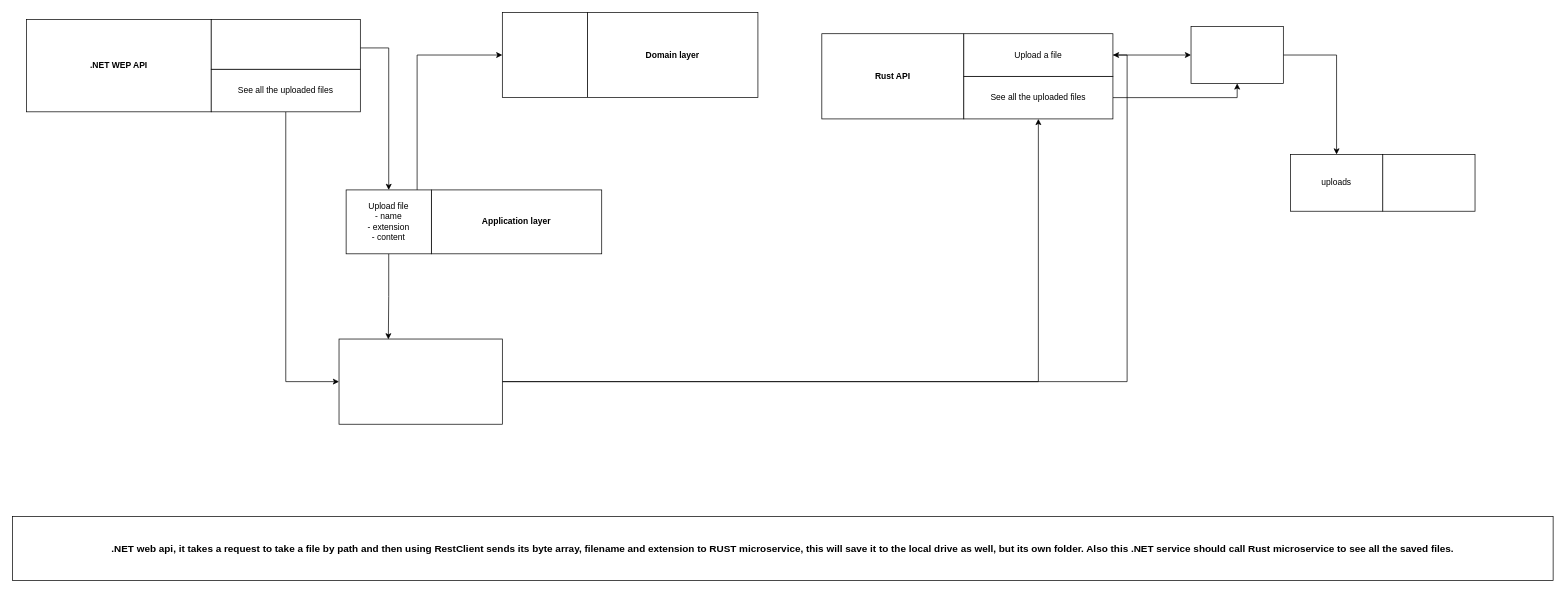
The diagram is 1566 pixels wide and 593 high, and some of its shapes have lost their labels. The centre of each missing label's shape, as x and y in pixels:
".NET REST CLIENT" goes at (x=420, y=381).
"File - name - extension - content" goes at (x=545, y=55).
"I/O" goes at (x=1236, y=54).
"LOCAL DRIVE" goes at (x=1428, y=182).
"Upload a file - filename - extension - content" goes at (x=285, y=44).
